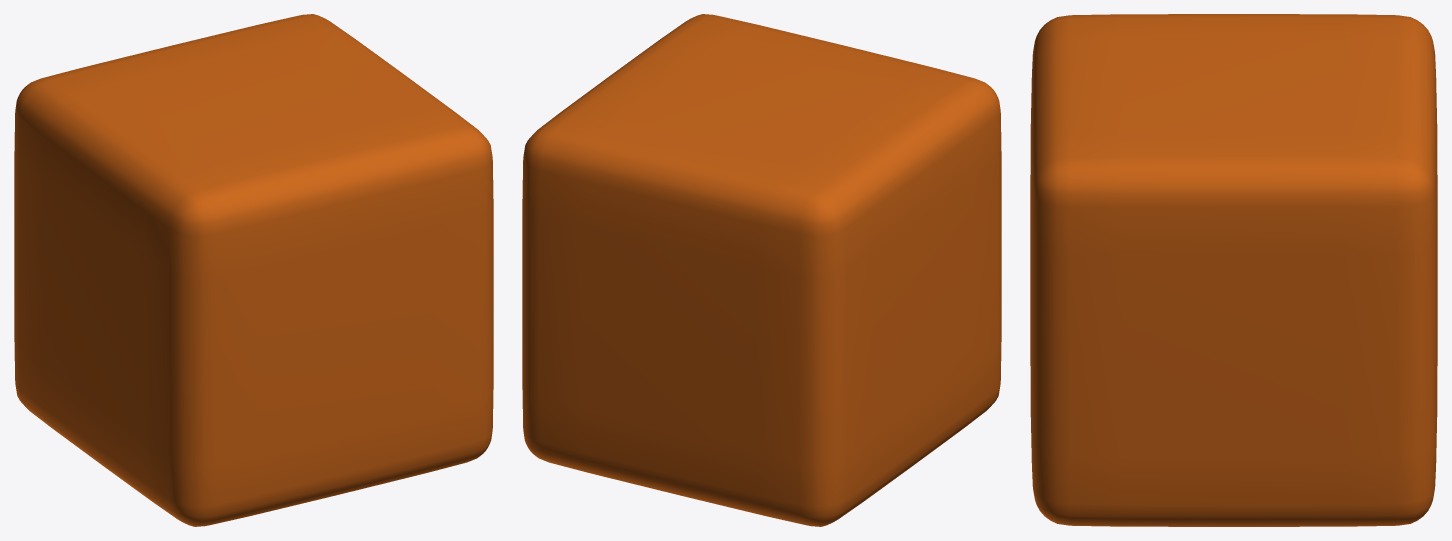
The model's file is cubeMovement.fbx.
3 renders of one model, left to right at view 1: azimuth 30°, elevation 25°; view 2: azimuth 150°, elevation 25°; view 3: azimuth 270°, elevation 25°, orthographic. The views are drawn at different scales.
Visible parts, largest first — view 1: Roundcube; view 2: Roundcube; view 3: Roundcube.
Part boxes in pixels (x1,y1,x2,y2): Roundcube: (14,14,493,526); Roundcube: (522,14,1001,526); Roundcube: (1030,14,1437,526).
Bounding box in the file's own units: 799 × 799 × 799.
